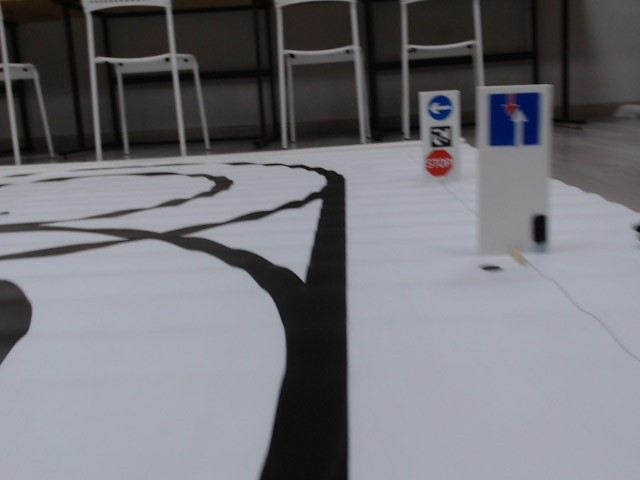Stop: (425, 149, 453, 174)
priority_movement: (487, 91, 541, 148)
